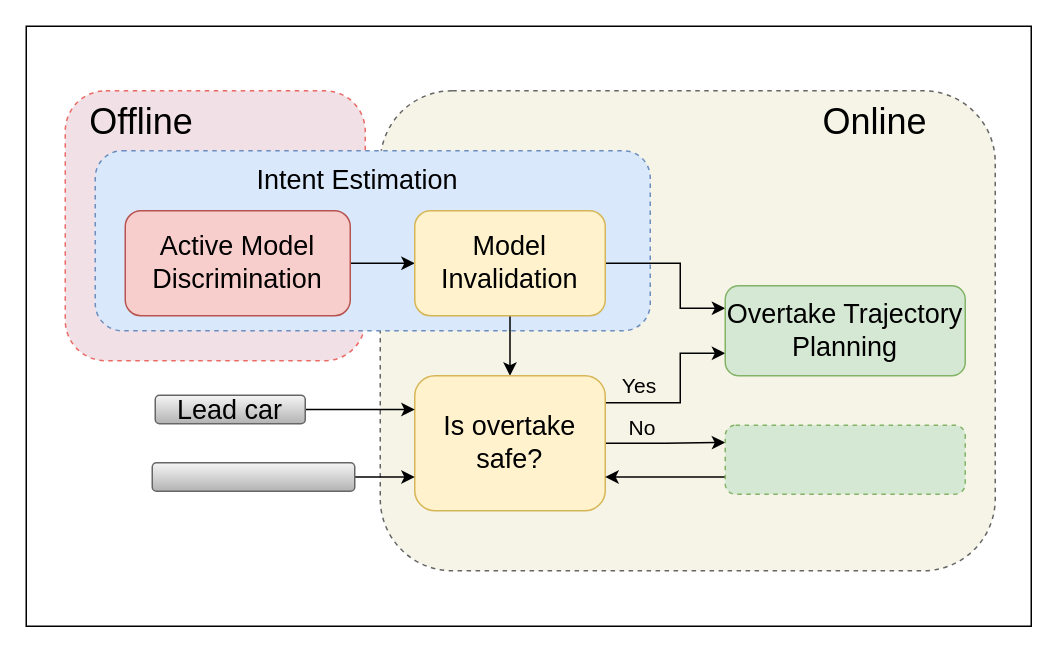
This 1058x653 diagram has some shape labels left out. Here are the shapes that lost their labels. From the top down, the centre of each, then its label:
(x=253, y=476): Oncoming Car
(x=844, y=459): Follow the lead car
